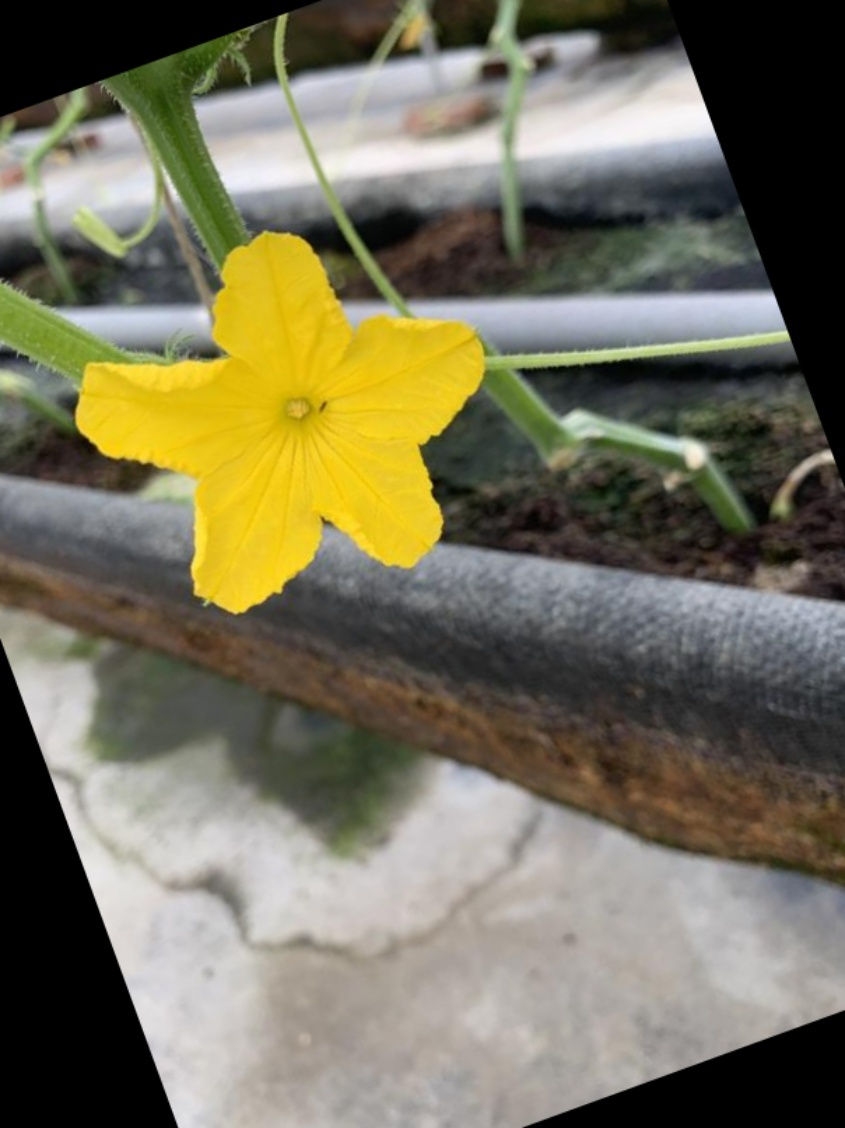flowering: (46, 228, 504, 617)
